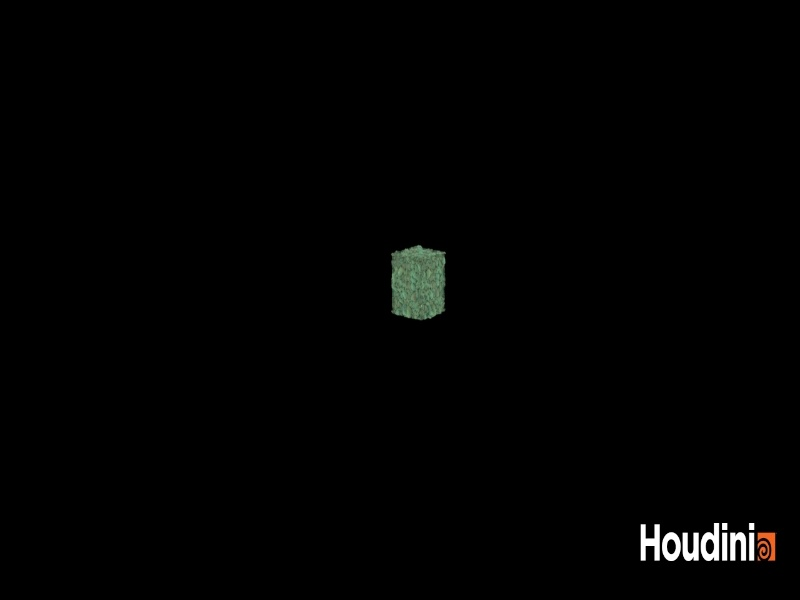waste: (383, 236, 460, 329)
